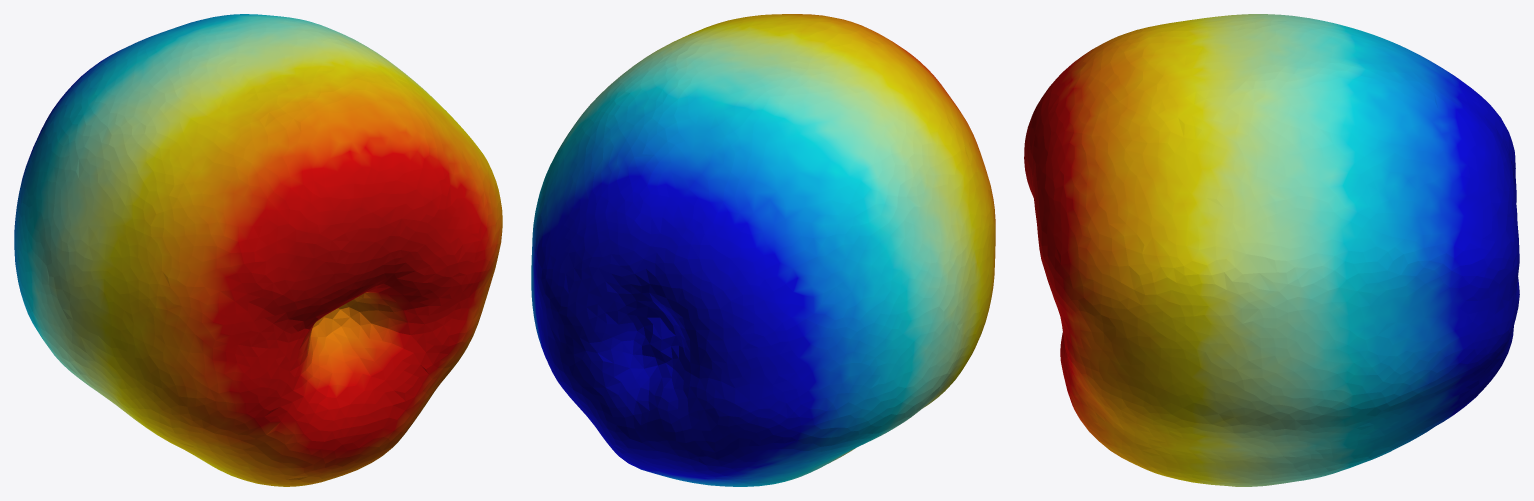
The model's file is apple.glb.
3 views of the same model, side by side, from view 1: azimuth 30°, elevation 25°; view 2: azimuth 150°, elevation 25°; view 3: azimuth 270°, elevation 25° (orthographic). The views are drawn at different scales.
Visible parts, largest first — view 1: Apple.obj; view 2: Apple.obj; view 3: Apple.obj.
Part boxes in pixels (x1,y1,x2,y2): Apple.obj: [14, 14, 502, 486]; Apple.obj: [531, 14, 995, 486]; Apple.obj: [1024, 14, 1519, 486].
Size of the model in its own units: 1.73 by 1.71 by 1.81.
